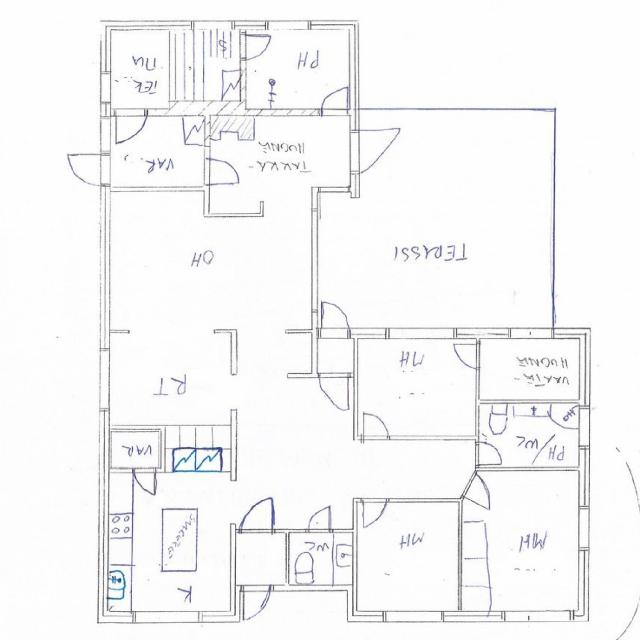door: (350, 128, 403, 172), (462, 473, 500, 508), (321, 299, 350, 339), (116, 108, 146, 146), (71, 155, 110, 184), (240, 498, 272, 532), (204, 156, 238, 184), (319, 373, 348, 405), (243, 584, 270, 618), (321, 82, 347, 116), (240, 35, 272, 59), (362, 411, 387, 440), (451, 344, 479, 369), (362, 499, 387, 526), (475, 442, 503, 464), (134, 468, 156, 493), (308, 509, 328, 533)
